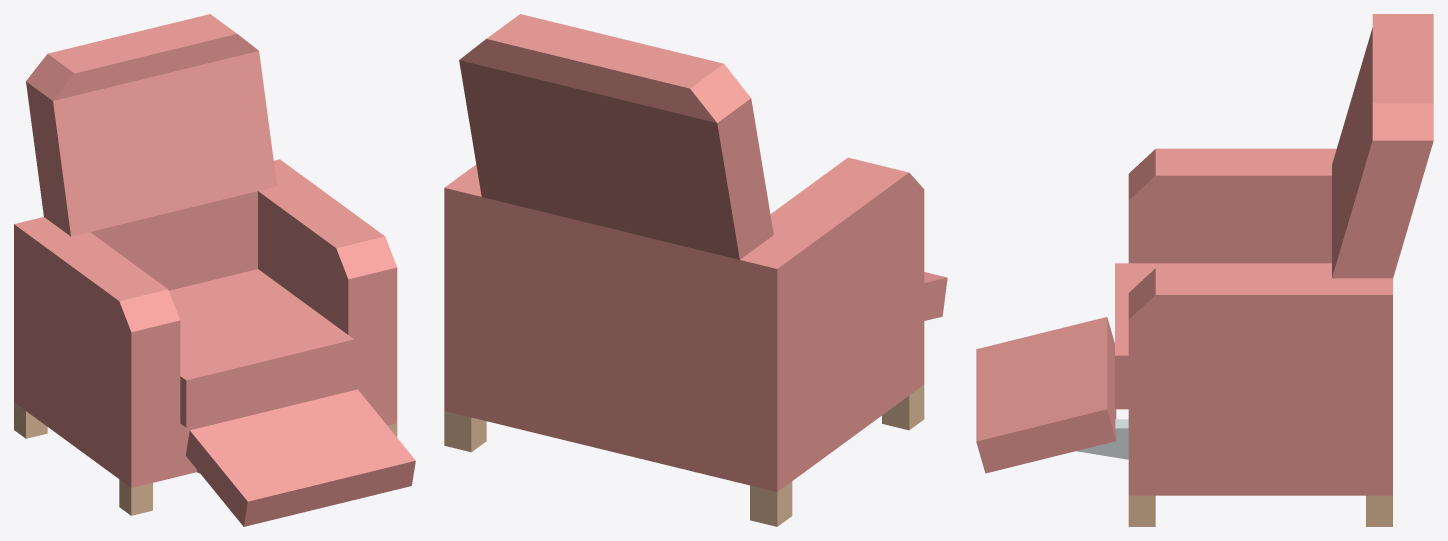
Rendered from loungeChairRelax-alt-col.glb.
The picture shows the model from 3 angles, left to right: view 1: azimuth 30°, elevation 25°; view 2: azimuth 150°, elevation 25°; view 3: azimuth 270°, elevation 25°; orthographic projection. The views are drawn at different scales.
Parts seen in each view (by area): view 1: loungeChairRelax-alt-col; view 2: loungeChairRelax-alt-col; view 3: loungeChairRelax-alt-col.
Part boxes in pixels (x1,y1,x2,y2): loungeChairRelax-alt-col: (14, 14, 415, 526); loungeChairRelax-alt-col: (444, 14, 947, 526); loungeChairRelax-alt-col: (976, 14, 1433, 526).
Size of the model in its own units: 0.5 by 0.63 by 0.6612.
